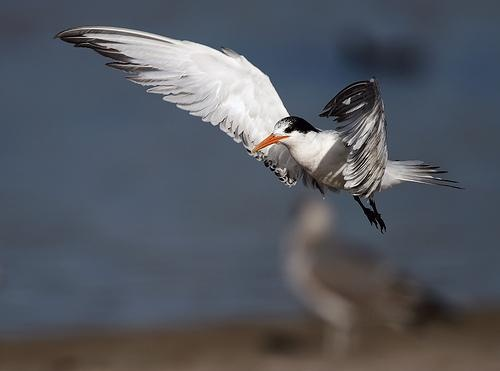bird: (52, 23, 462, 233)
